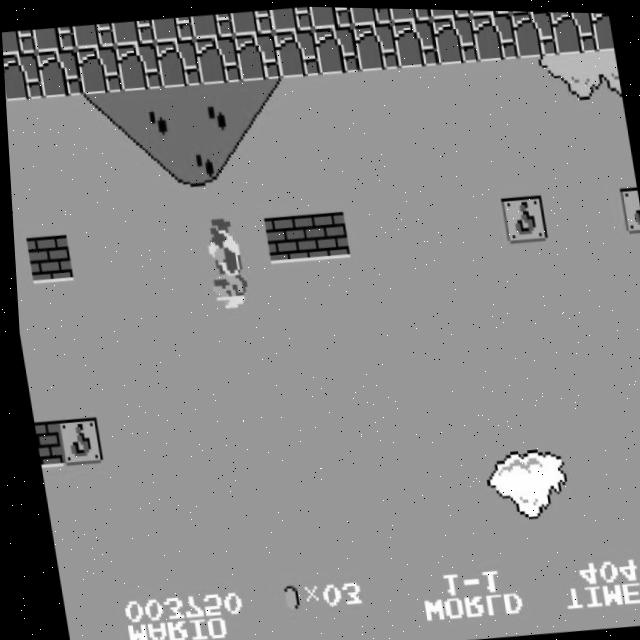1- brick_block: (22, 233, 71, 284), (299, 209, 348, 259), (260, 212, 308, 263), (29, 420, 58, 468)
13- mystery_block: (50, 416, 98, 466), (498, 192, 546, 242), (617, 184, 640, 232)
17- undestructible_block: (113, 40, 162, 91), (192, 33, 241, 84), (232, 30, 281, 81), (311, 23, 360, 74), (390, 16, 439, 67), (34, 48, 83, 98), (430, 13, 479, 63), (74, 44, 122, 95), (153, 37, 201, 88), (272, 26, 320, 77), (470, 9, 518, 60), (351, 20, 399, 70), (509, 9, 557, 56), (2, 51, 43, 102), (549, 10, 597, 52), (110, 18, 155, 46), (189, 11, 234, 39), (31, 25, 75, 53), (229, 7, 273, 35), (71, 22, 115, 49), (150, 15, 194, 42), (268, 5, 312, 31), (308, 5, 352, 28), (589, 10, 614, 50), (1, 28, 36, 56), (348, 6, 392, 25), (388, 7, 432, 22), (428, 7, 471, 17)
4- fire_mario: (193, 215, 250, 314)
